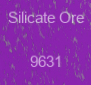Silicate: (8, 10, 85, 67)
